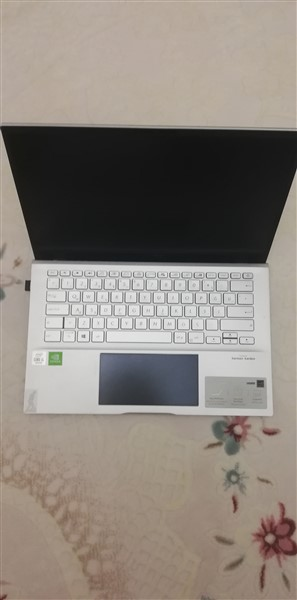laptop: (1, 121, 297, 416)
